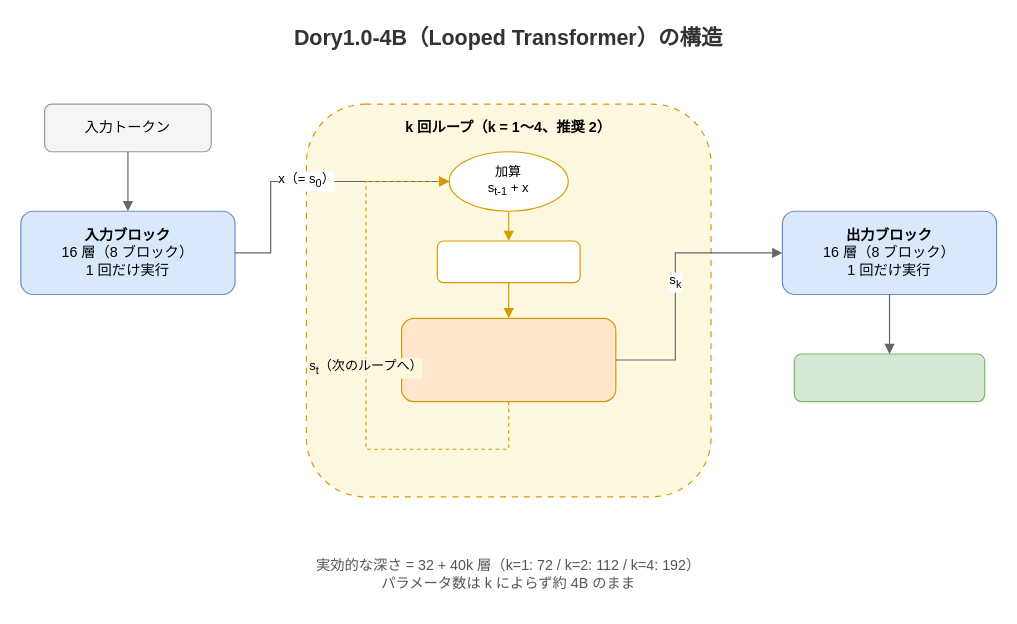
Some shapes in this 1017 by 624 pixel diagram are drawn without their labels. The centre of each missing label's shape, as x and y in pixels:
"L2 正規化 N(·)" goes at (x=508, y=261).
"LM ヘッド → 次トークン" goes at (x=889, y=377).
"再帰ブロック（重み共有） 40 層（20 ブロック） 出力も L2 正規化" goes at (x=508, y=359).
